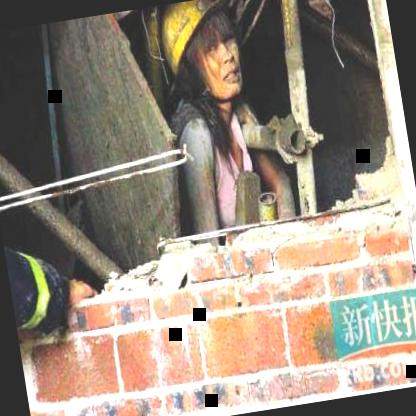helmet: (142, 0, 255, 121)
